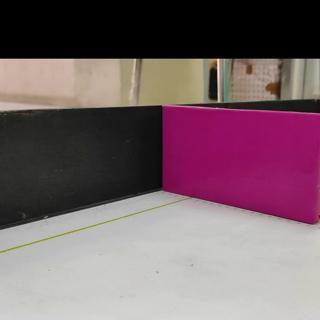xparking: (165, 113, 320, 210)
